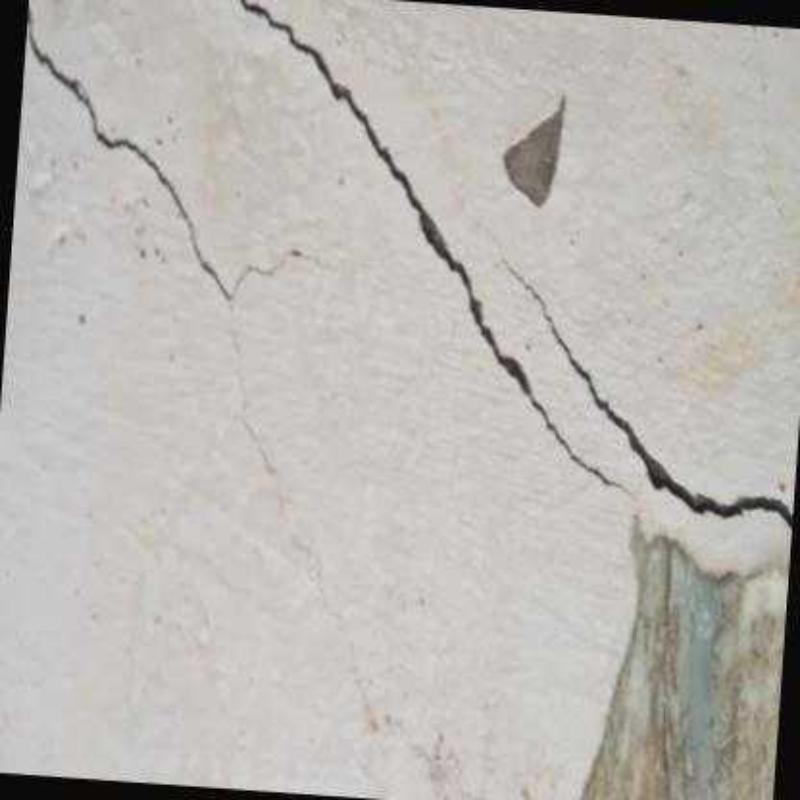pothole: (231, 0, 607, 491), (514, 268, 794, 538), (24, 0, 231, 307)
